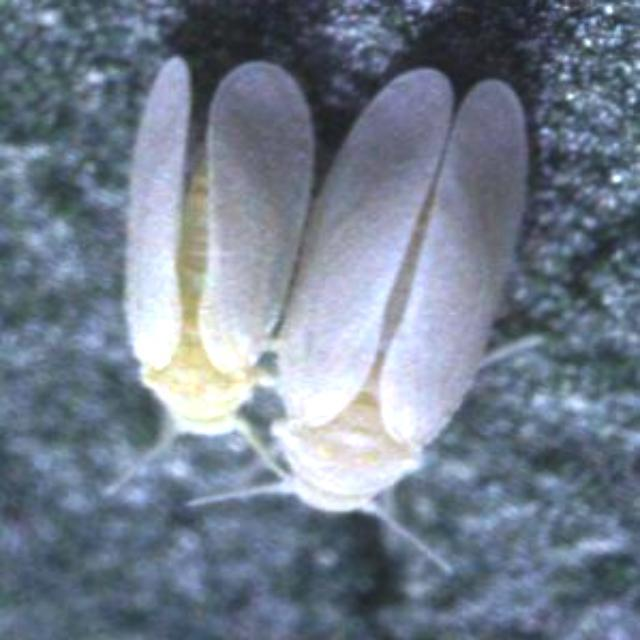Silverleaf whitefly: (79, 18, 599, 562)
